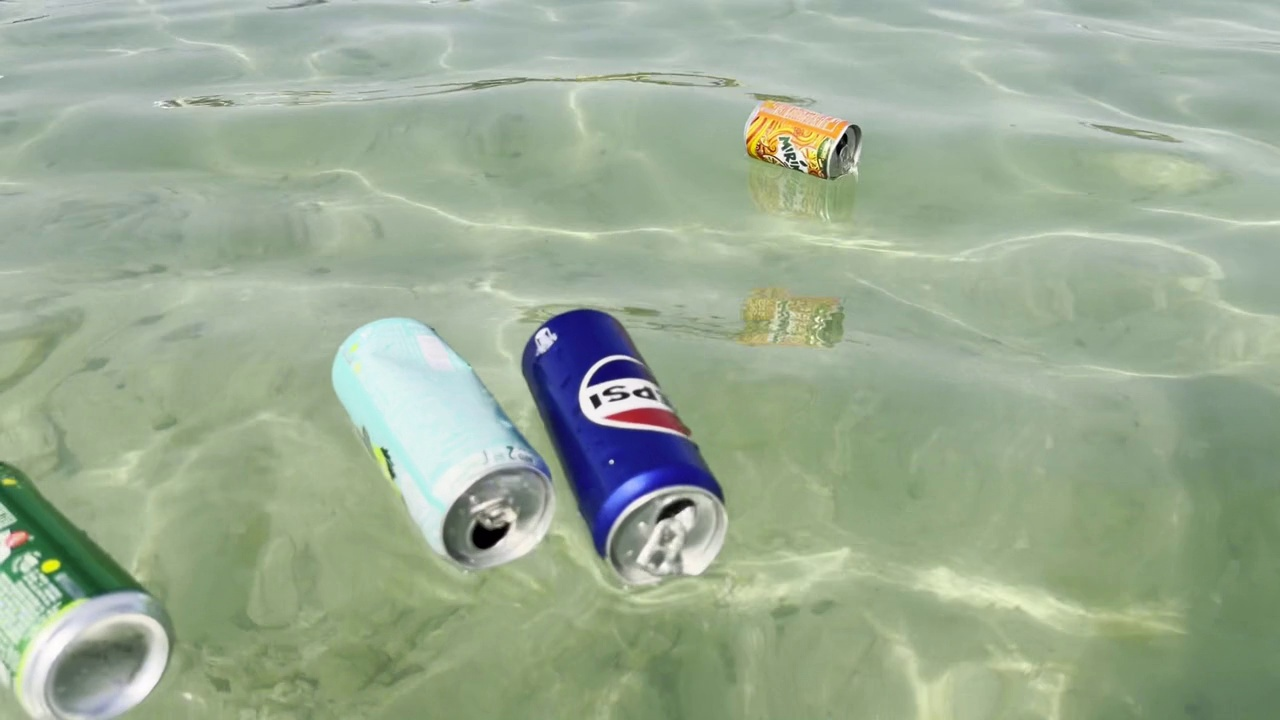debris: (500, 303, 733, 598), (319, 311, 560, 583), (1, 437, 187, 720), (733, 89, 865, 192)
